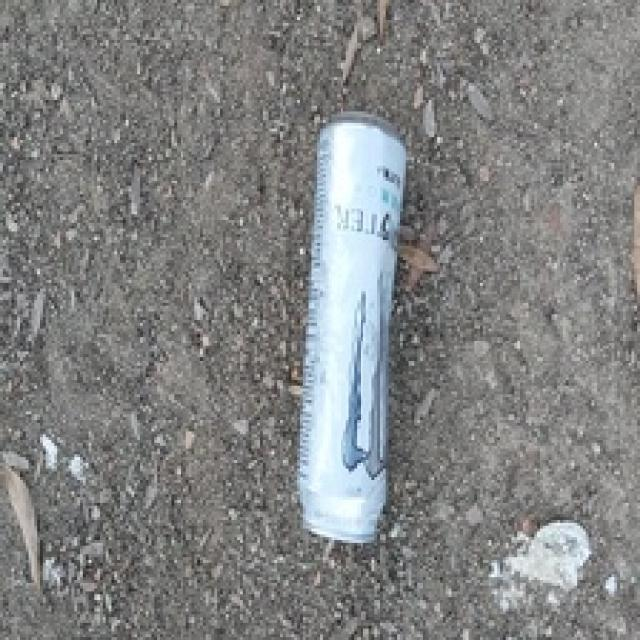recyclable: (299, 114, 406, 542)
